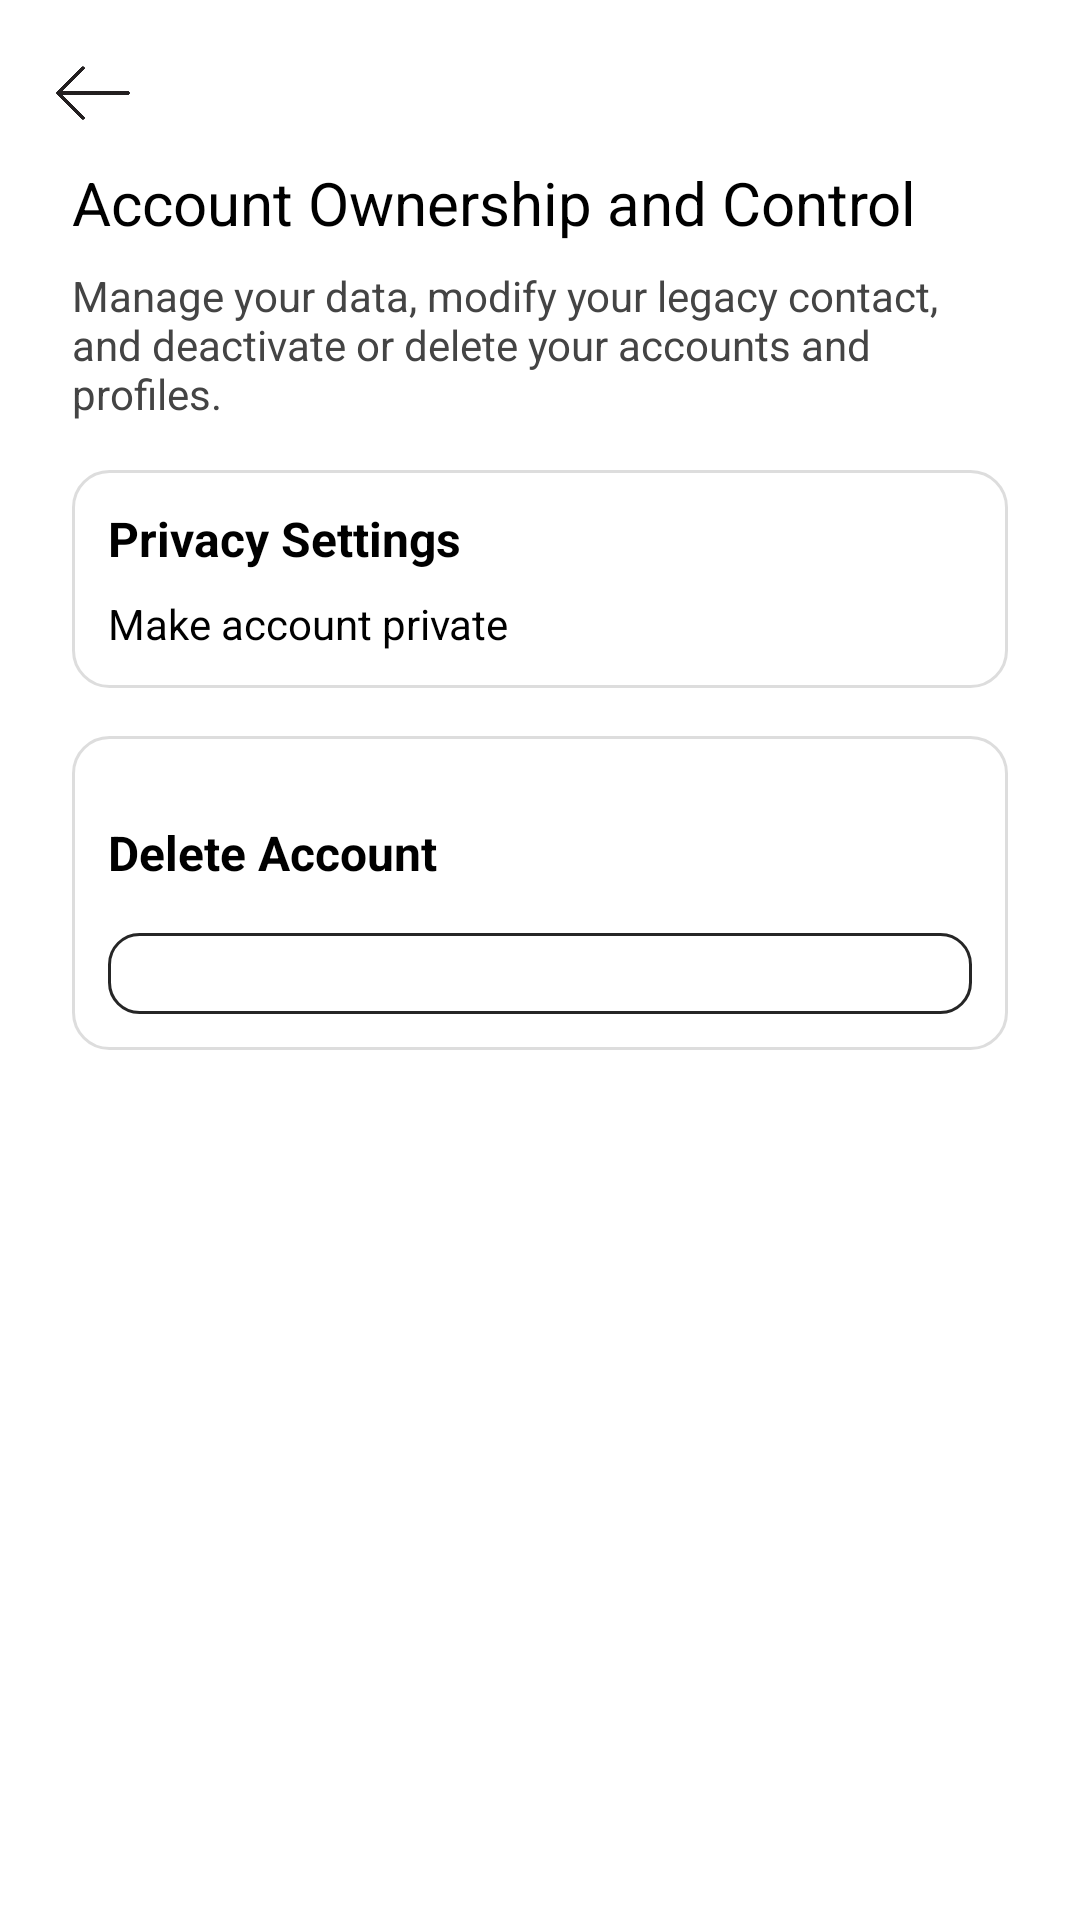

Screen size 1080px×1920px. Icon name, then its box in pixels as [x1=x1, y1=y1, x2=x2, y2=y2]:
Back Button: [x1=56, y1=66, x2=130, y2=120]
